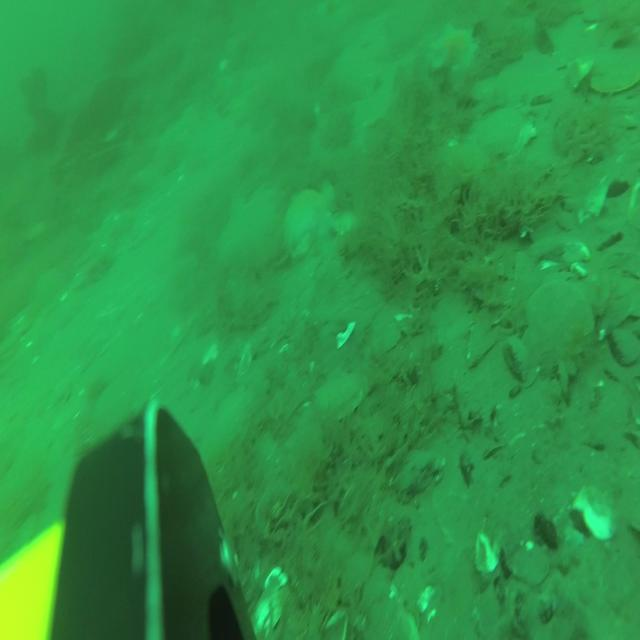scallop: (523, 276, 592, 356), (315, 369, 372, 419), (478, 106, 534, 155), (588, 46, 640, 96), (514, 541, 548, 583)
starfish: (278, 184, 332, 250), (432, 23, 476, 74)
